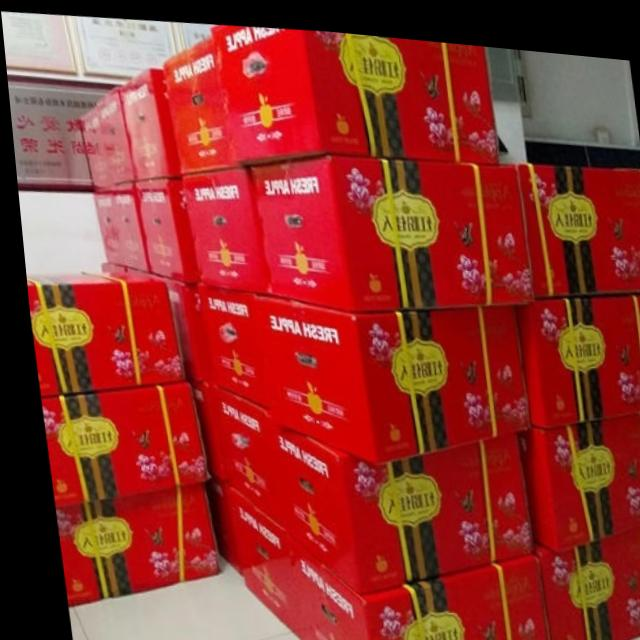box: (248, 288, 524, 459), (263, 416, 525, 589), (247, 149, 529, 304), (211, 20, 497, 161), (276, 528, 538, 640), (33, 380, 198, 508), (45, 479, 209, 607), (21, 267, 178, 396), (509, 400, 640, 543), (510, 280, 640, 419), (512, 152, 640, 287), (525, 509, 640, 640), (215, 477, 291, 637), (201, 379, 275, 526), (178, 162, 263, 289), (160, 30, 235, 170), (190, 282, 263, 406), (116, 66, 178, 178), (130, 175, 194, 281), (76, 84, 131, 187), (91, 176, 144, 270), (160, 275, 200, 380), (194, 473, 231, 576), (183, 378, 217, 483)
